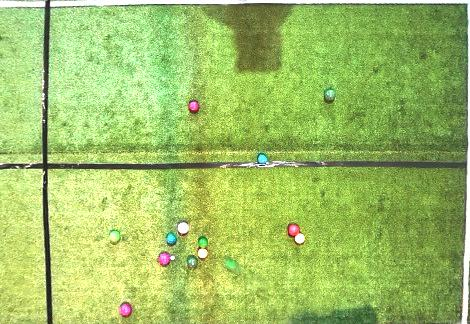blue: (166, 234, 177, 246), (257, 154, 268, 165)
green: (109, 230, 120, 243), (325, 89, 336, 101), (187, 256, 198, 267), (226, 258, 237, 269), (198, 237, 208, 247)
red: (120, 303, 132, 317), (159, 253, 170, 266), (288, 225, 300, 236), (188, 101, 199, 112), (178, 223, 189, 234)
vline: (1, 1, 55, 323), (458, 1, 469, 323)
white: (170, 255, 175, 260)
yellow: (295, 233, 305, 244), (198, 248, 208, 258)
